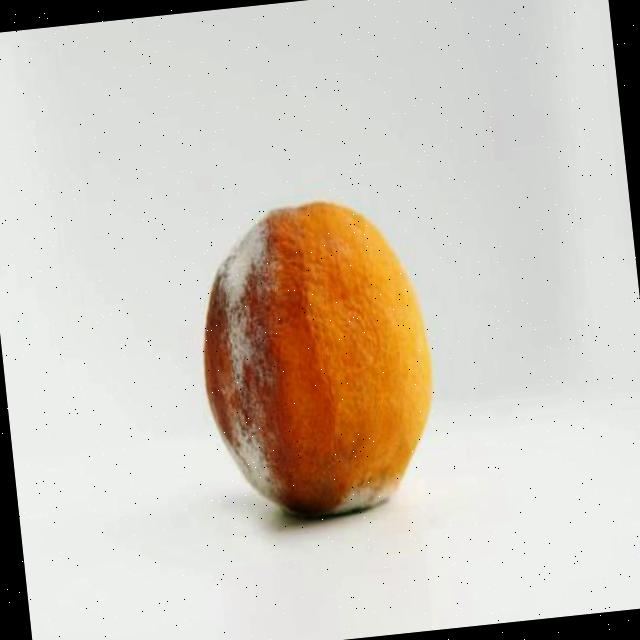rotten orange: (186, 189, 446, 529)
